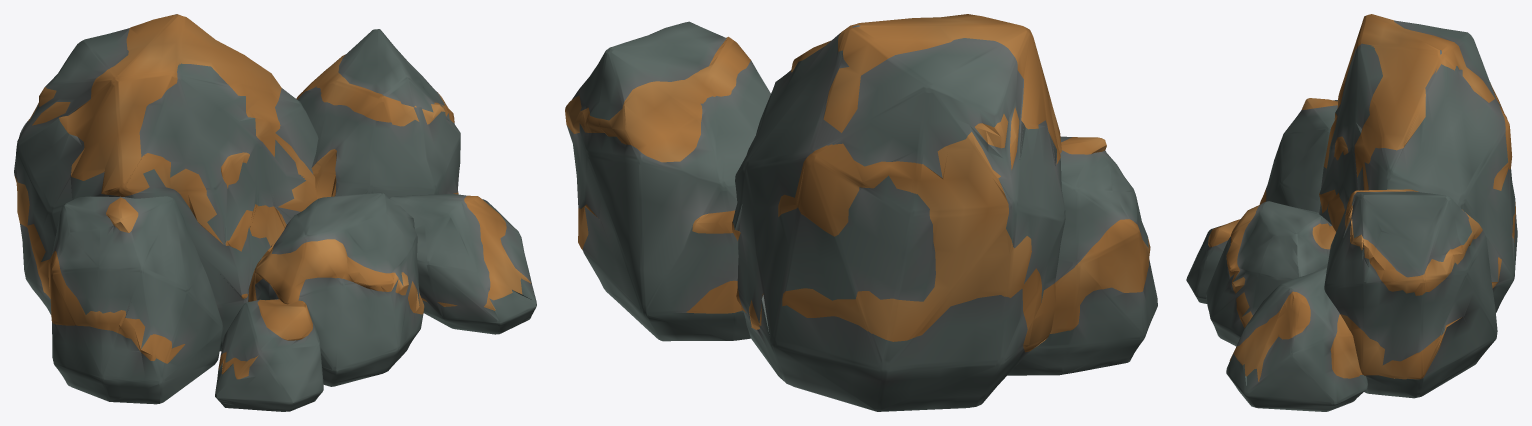
Rendered from corealm_ore_grithe.glb.
3 views of the same model, side by side, from view 1: azimuth 30°, elevation 25°; view 2: azimuth 150°, elevation 25°; view 3: azimuth 270°, elevation 25° (orthographic). The views are drawn at different scales.
Visible parts, largest first — view 1: corealm_ore_grithe; view 2: corealm_ore_grithe; view 3: corealm_ore_grithe.
Part boxes in pixels (x1,y1,x2,y2): corealm_ore_grithe: (14, 14, 536, 411); corealm_ore_grithe: (565, 14, 1157, 411); corealm_ore_grithe: (1186, 14, 1517, 411).
Bounding box in the file's own units: 1.55 × 0.94 × 1.12.
